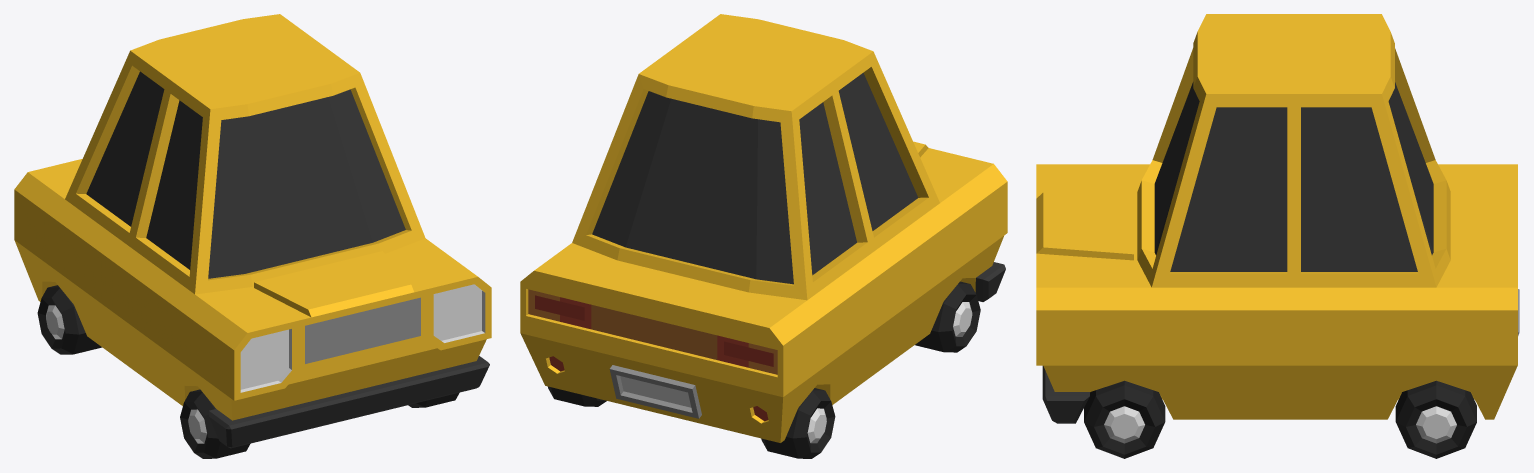
Rendered from Car02.fbx.
3 views of the same model, side by side, from view 1: azimuth 30°, elevation 25°; view 2: azimuth 150°, elevation 25°; view 3: azimuth 270°, elevation 25° (orthographic). The views are drawn at different scales.
Visible parts, largest first — view 1: Car02; view 2: Car02; view 3: Car02.
Part boxes in pixels (left/top/right/bottom): Car02: left=14, top=14, right=491, bottom=458; Car02: left=520, top=14, right=1007, bottom=458; Car02: left=1036, top=14, right=1519, bottom=458.
Size of the model in its own units: 1.97 by 2.22 by 2.85.
1 material, 1 textured.
